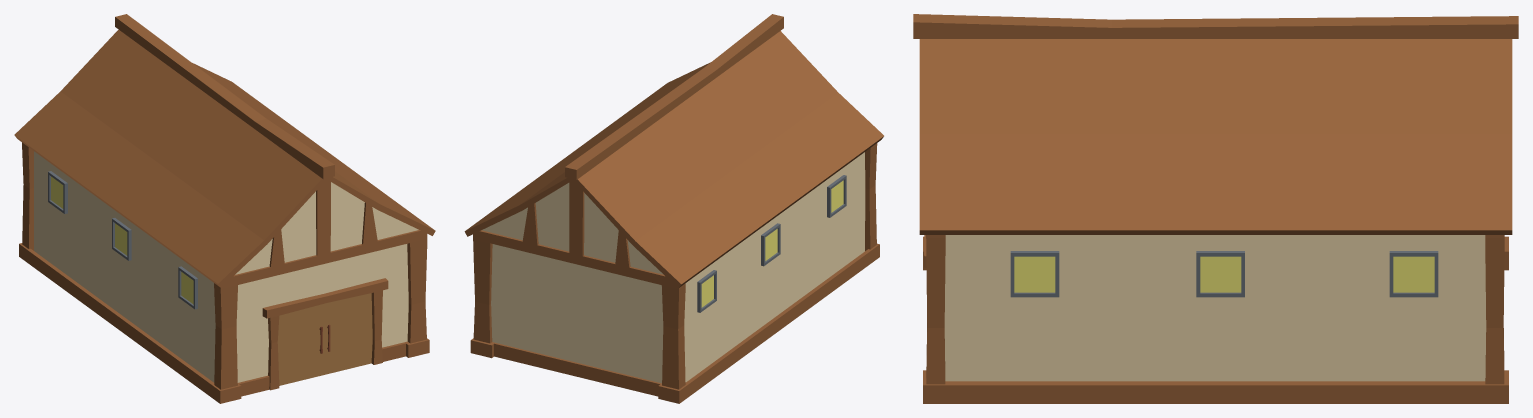
Rendered from Barn_02.fbx.
3 views of the same model, side by side, from view 1: azimuth 30°, elevation 25°; view 2: azimuth 150°, elevation 25°; view 3: azimuth 270°, elevation 25° (orthographic). The views are drawn at different scales.
Visible parts, largest first — view 1: Barn_02; view 2: Barn_02; view 3: Barn_02.
Part boxes in pixels (bbox=[...]): Barn_02: bbox=[14, 14, 435, 403]; Barn_02: bbox=[464, 14, 883, 403]; Barn_02: bbox=[913, 14, 1518, 403].
Bounding box in the file's own units: 643 × 605 × 1065.
